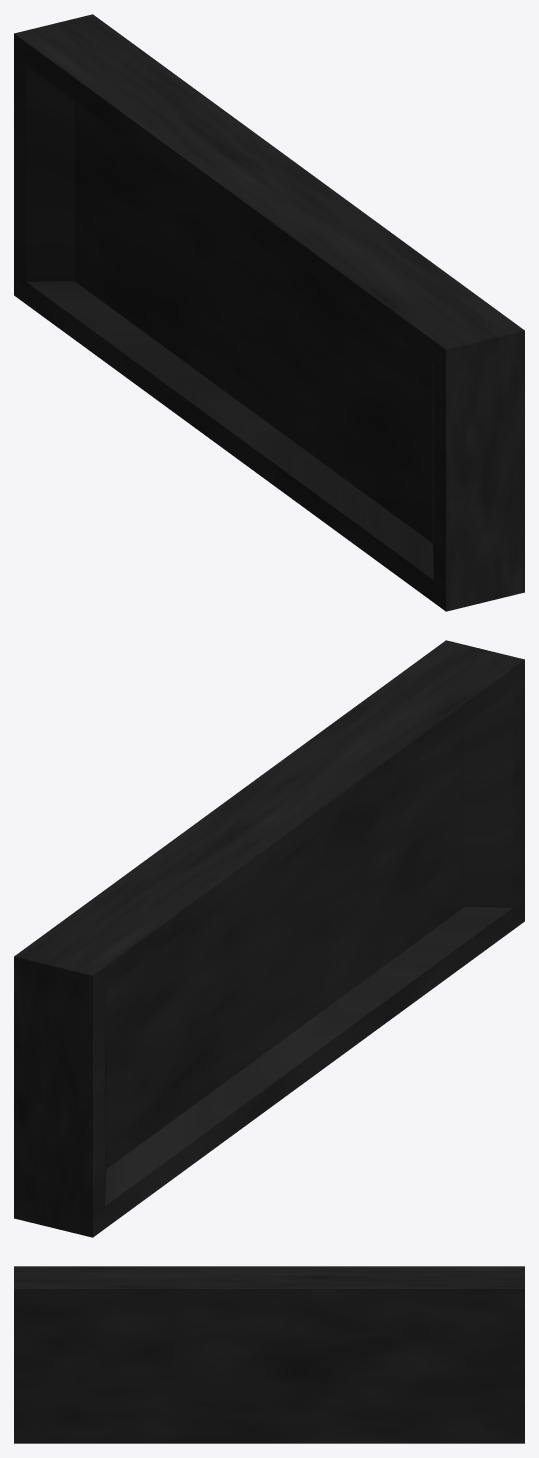
Rendered from horloge.fbx.
The picture shows the model from 3 angles, top to bottom: view 1: azimuth 30°, elevation 25°; view 2: azimuth 150°, elevation 25°; view 3: azimuth 270°, elevation 25°; orthographic projection. The views are drawn at different scales.
Parts seen in each view (by area): view 1: horloge; view 2: horloge; view 3: horloge.
Part boxes in pixels (left/top/right/bottom): horloge: left=14, top=14, right=524, bottom=611; horloge: left=14, top=640, right=524, bottom=1237; horloge: left=14, top=1266, right=524, bottom=1443.
Size of the model in its own units: 21.08 by 66.88 by 200.
1 material, 1 textured.
